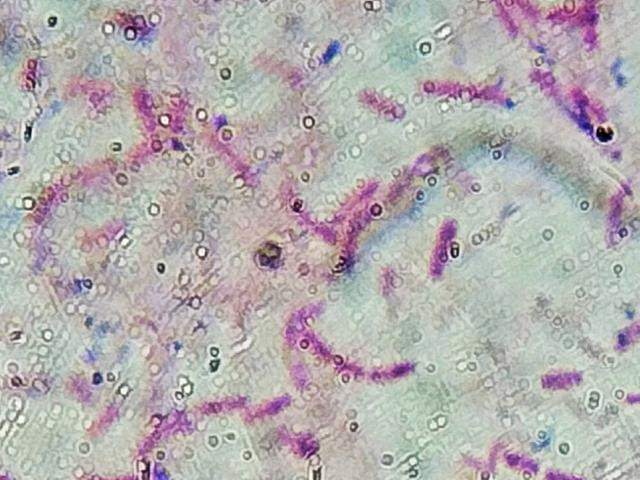E. coli: (428, 77, 512, 111), (202, 127, 254, 181), (339, 359, 426, 390), (288, 192, 336, 241), (426, 213, 462, 278), (552, 3, 610, 41), (603, 182, 637, 246), (552, 79, 601, 123), (344, 207, 377, 271), (391, 153, 433, 197), (538, 359, 585, 394), (278, 333, 307, 386), (143, 416, 180, 457), (168, 89, 192, 149), (275, 427, 318, 458), (88, 395, 114, 445), (128, 86, 155, 134), (365, 96, 405, 128), (243, 392, 290, 419), (31, 185, 59, 229), (85, 143, 135, 167), (91, 219, 128, 251), (611, 316, 639, 357), (59, 369, 92, 403), (311, 329, 341, 366), (487, 0, 512, 43), (196, 389, 246, 410), (285, 300, 321, 329), (495, 450, 536, 474), (346, 180, 374, 203), (542, 466, 577, 480)
